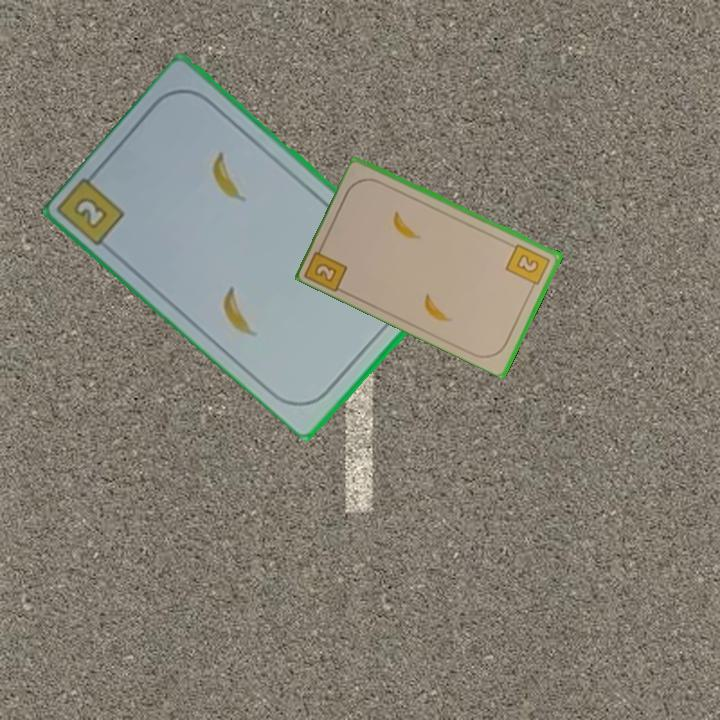2b: (303, 238, 351, 294), (503, 240, 553, 292), (70, 193, 111, 233)
